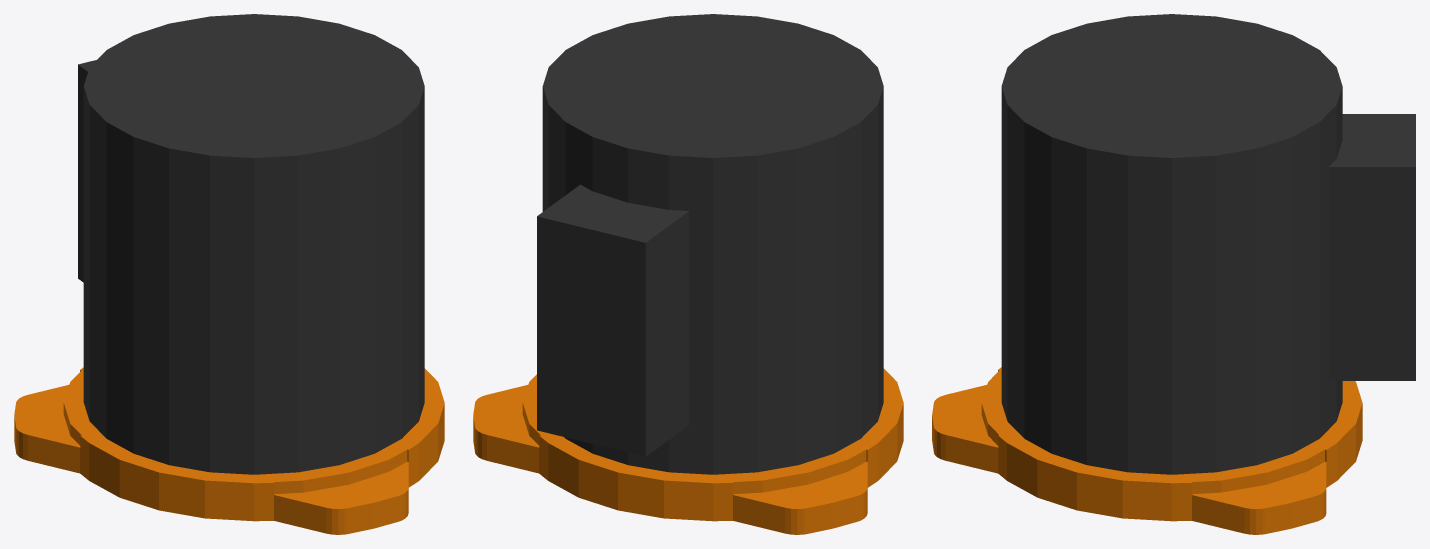
3 views of the same model, side by side, from view 1: azimuth 30°, elevation 25°; view 2: azimuth 150°, elevation 25°; view 3: azimuth 270°, elevation 25° (orthographic).
Visible parts, largest first — view 1: tube_mesh_, base_mesh_; view 2: tube_mesh_, base_mesh_; view 3: tube_mesh_, base_mesh_.
Part boxes in pixels (x1=…): tube_mesh_: x1=78, y1=14, x2=424, y2=474; base_mesh_: x1=14, y1=367, x2=444, y2=534; tube_mesh_: x1=537, y1=14, x2=883, y2=474; base_mesh_: x1=473, y1=368, x2=903, y2=534; tube_mesh_: x1=1001, y1=14, x2=1415, y2=474; base_mesh_: x1=932, y1=367, x2=1362, y2=534.
Size of the model in its own units: 0.4683 by 0.411 by 0.508.
